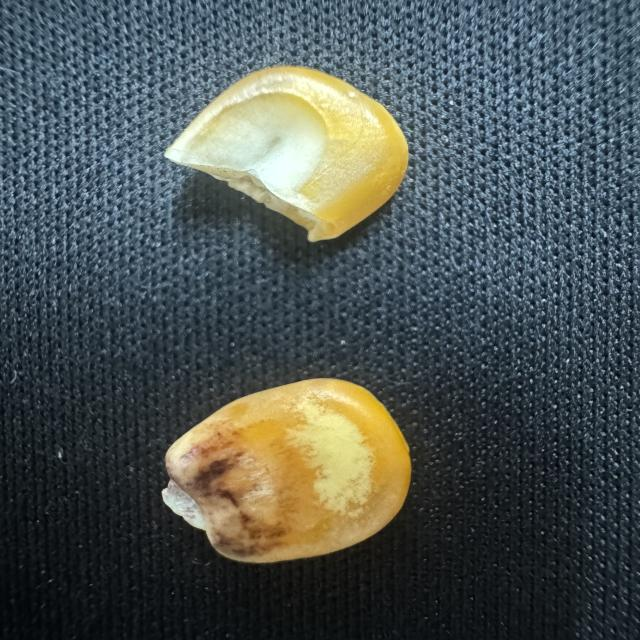Bad-Seed: (142, 369, 421, 569), (157, 65, 424, 252)
